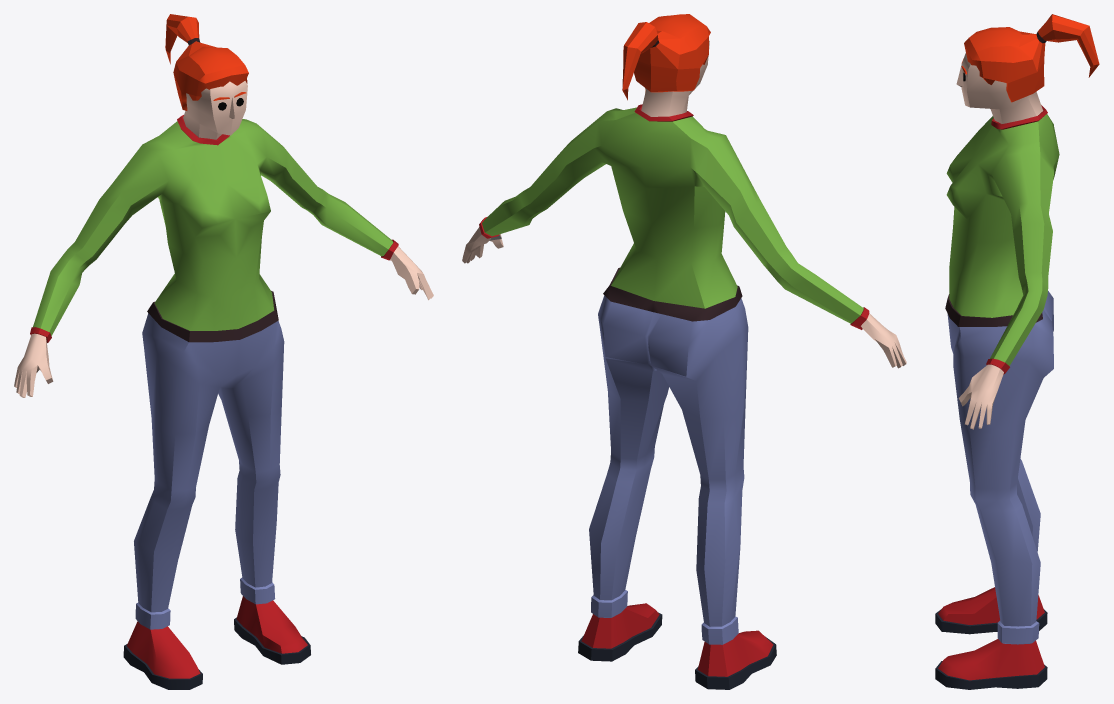
The model's file is mujer.obj.
3 views of the same model, side by side, from view 1: azimuth 30°, elevation 25°; view 2: azimuth 150°, elevation 25°; view 3: azimuth 270°, elevation 25° (orthographic). The views are drawn at different scales.
Parts seen in each view (by area): view 1: lowPolyCharacterFemaleFace7_Mesh; view 2: lowPolyCharacterFemaleFace7_Mesh; view 3: lowPolyCharacterFemaleFace7_Mesh.
Boxes of the visible parts, x1,y1,x2,y2 form: lowPolyCharacterFemaleFace7_Mesh: (14, 14, 433, 689); lowPolyCharacterFemaleFace7_Mesh: (462, 14, 906, 689); lowPolyCharacterFemaleFace7_Mesh: (935, 14, 1099, 689).
Bounding box in the file's own units: 1.33 × 1.9 × 0.4434.
